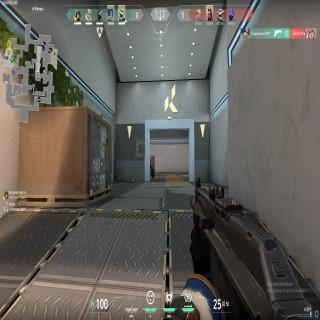ENEMY-BODY: (150, 155, 154, 179)
